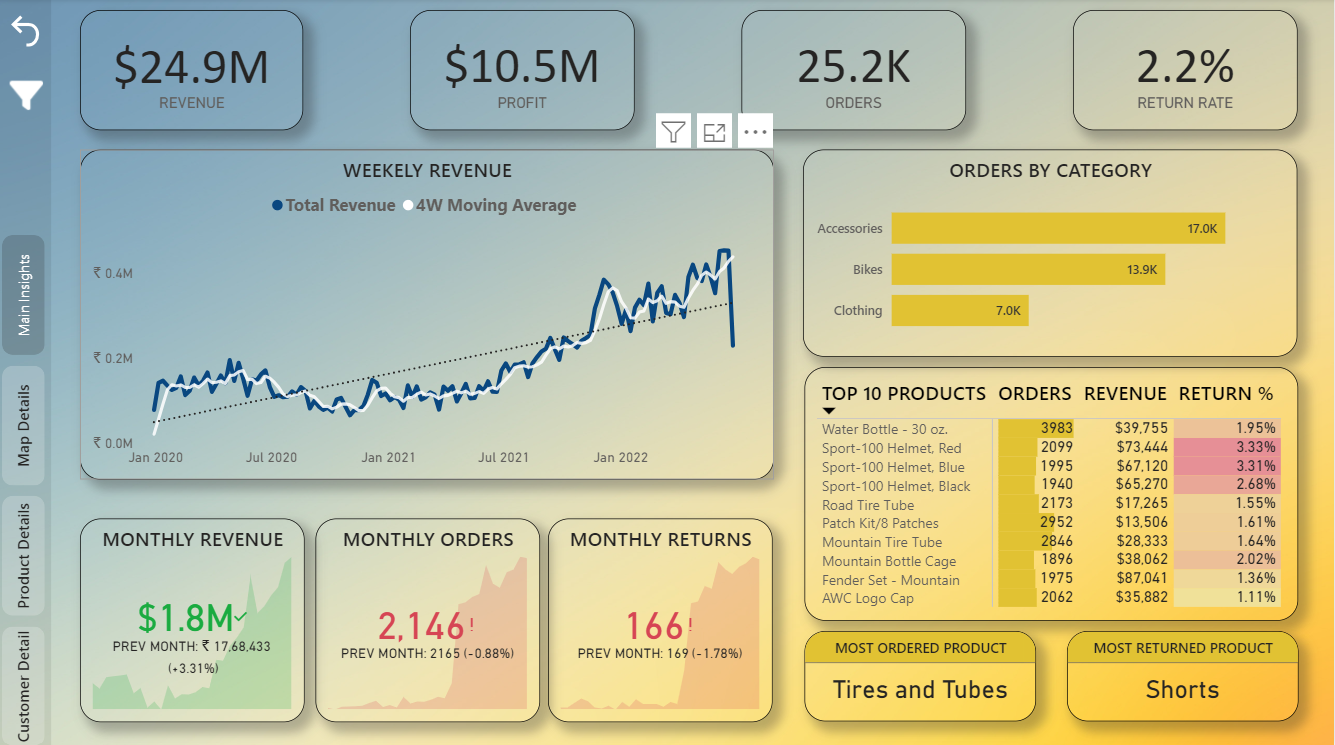

Layout of this report page (visuals, bound fields, positions):
{"tool":"powerbi","page":{"name":"Main Insights ","canvas":[1280,720],"ordinal":0},"visuals":[{"type":"card","fields":{"Values":["Measure Table.Total Revenue"]},"box":[77.7,11.5,214.3,115],"z":1000},{"type":"card","fields":{"Values":["Measure Table.Total Profit"]},"box":[394.6,11.7,215,115],"z":2000},{"type":"card","fields":{"Values":["Measure Table.Total Orders"]},"box":[712.3,11.7,215,115],"z":3000},{"type":"card","fields":{"Values":["Measure Table.Return Rate"]},"box":[1030,11.7,215,115],"z":4000},{"type":"lineChart","title":"WEEKELY REVENUE","fields":{"Category":["Calendar Lookup.Start of Week"],"Y":["Measure Table.Total Revenue","Measure Table.4W Moving Average"]},"box":[78.3,145,665,316.7],"z":5000},{"type":"kpi","title":"MONTHLY REVENUE","fields":{"Goal":["Measure Table.Previous Month Revenue"],"Indicator":["Measure Table.Total Revenue"],"TrendLine":["Calendar Lookup.Date Hierarchy.Start of Month"]},"box":[78.3,498.3,215,195],"z":6000},{"type":"kpi","title":"MONTHLY ORDERS","fields":{"Goal":["Measure Table.Previous Month Orders"],"Indicator":["Measure Table.Total Orders"],"TrendLine":["Calendar Lookup.Date Hierarchy.Start of Month"]},"box":[303.3,498.3,215,195],"z":7000},{"type":"kpi","title":"MONTHLY RETURNS","fields":{"Goal":["Measure Table.Previous Month Returns"],"Indicator":["Measure Table.Total Returns"],"TrendLine":["Calendar Lookup.Date Hierarchy.Start of Month"]},"box":[526.7,498.3,215,195],"z":8000},{"type":"clusteredBarChart","title":"ORDERS BY CATEGORY","fields":{"Category":["Product Categories Lookup.CategoryName"],"Y":["Measure Table.Total Orders"]},"box":[771.2,145,473.8,198.8],"z":9000},{"type":"pivotTable","fields":{"Rows":["Product Lookup.ProductName"],"Values":["Measure Table.Total Orders","Measure Table.Total Revenue","Measure Table.Return Rate"]},"box":[771.7,353.3,473.3,243.3],"z":10000},{"type":"card","title":"MOST ORDERED PRODUCT","fields":{"Values":["Min(Product Subcategories Lookup.SubcategoryName)"]},"box":[771.7,606.7,221.7,86.7],"z":11000},{"type":"card","title":"MOST RETURNED PRODUCT","fields":{"Values":["Min(Product Subcategories Lookup.SubcategoryName)"]},"box":[1023.3,606.7,221.7,86.7],"z":12000},{"type":"shape","box":[0,0,50,720],"z":13000},{"type":"actionButton","box":[0,11.7,50,40],"z":14000},{"type":"pageNavigator","box":[3.3,226.7,41.7,493.3],"z":15000},{"type":"actionButton","box":[3.3,73.3,46.7,40],"z":16000}]}

Visuals, with their boxes on the page's 1280x720 design canvas (x1, y1, x2, y2). These are canvas units, not pixel positions in the 1335x745 screenshot, which may show the page scaled, cropped or inside an application window:
card - Measure Table.Total Revenue: crop(78, 12, 292, 126)
card - Measure Table.Total Profit: crop(395, 12, 610, 127)
card - Measure Table.Total Orders: crop(712, 12, 927, 127)
card - Measure Table.Return Rate: crop(1030, 12, 1245, 127)
"WEEKELY REVENUE" lineChart: crop(78, 145, 743, 462)
"MONTHLY REVENUE" kpi: crop(78, 498, 293, 693)
"MONTHLY ORDERS" kpi: crop(303, 498, 518, 693)
"MONTHLY RETURNS" kpi: crop(527, 498, 742, 693)
"ORDERS BY CATEGORY" clusteredBarChart: crop(771, 145, 1245, 344)
pivotTable - Product Lookup.ProductName x Measure Table.Total Orders: crop(772, 353, 1245, 597)
"MOST ORDERED PRODUCT" card: crop(772, 607, 993, 693)
"MOST RETURNED PRODUCT" card: crop(1023, 607, 1245, 693)
shape: crop(0, 0, 50, 720)
actionButton: crop(0, 12, 50, 52)
pageNavigator: crop(3, 227, 45, 720)
actionButton: crop(3, 73, 50, 113)
